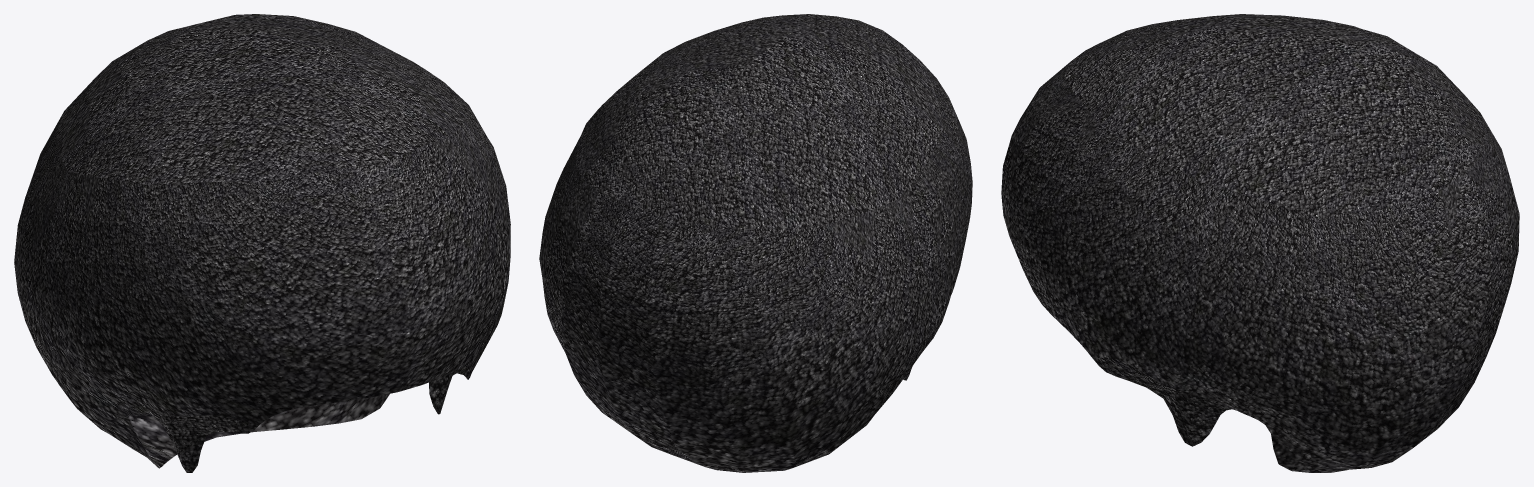
The model's file is Kami02.fbx.
The picture shows the model from 3 angles, left to right: view 1: azimuth 30°, elevation 25°; view 2: azimuth 150°, elevation 25°; view 3: azimuth 270°, elevation 25°; orthographic projection. The views are drawn at different scales.
Visible parts, largest first — view 1: Kami02; view 2: Kami02; view 3: Kami02.
Boxes of the visible parts, left/top/right/bottom form: Kami02: left=14, top=14, right=510, bottom=472; Kami02: left=539, top=14, right=972, bottom=472; Kami02: left=1001, top=14, right=1519, bottom=472.
Bounding box in the file's own units: 23.1 × 23.42 × 26.44.
